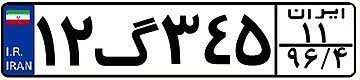character: (94, 12, 161, 72), (159, 9, 201, 70), (234, 11, 272, 71), (58, 10, 94, 70), (201, 10, 234, 72), (34, 12, 60, 72), (332, 47, 351, 74), (284, 46, 302, 71), (303, 46, 319, 73), (317, 20, 333, 43), (299, 21, 315, 43), (320, 47, 332, 72)
